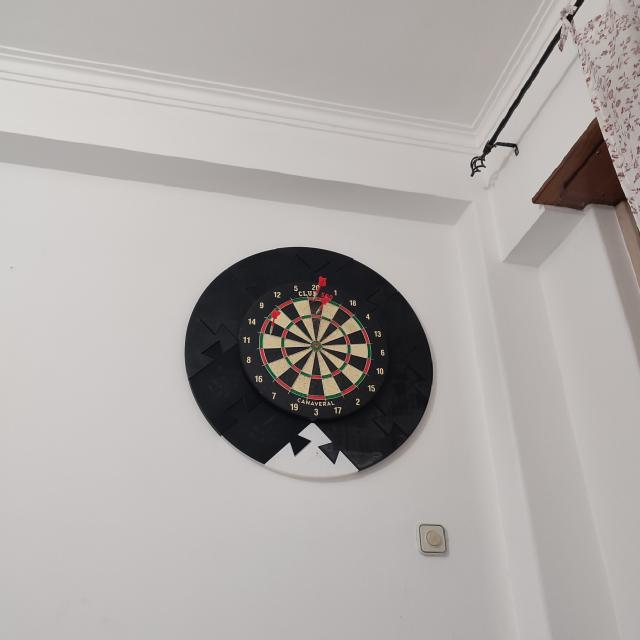dart: (313, 276, 327, 302), (312, 276, 326, 302), (315, 295, 331, 316), (314, 295, 330, 316), (270, 309, 281, 336), (270, 308, 280, 336)
